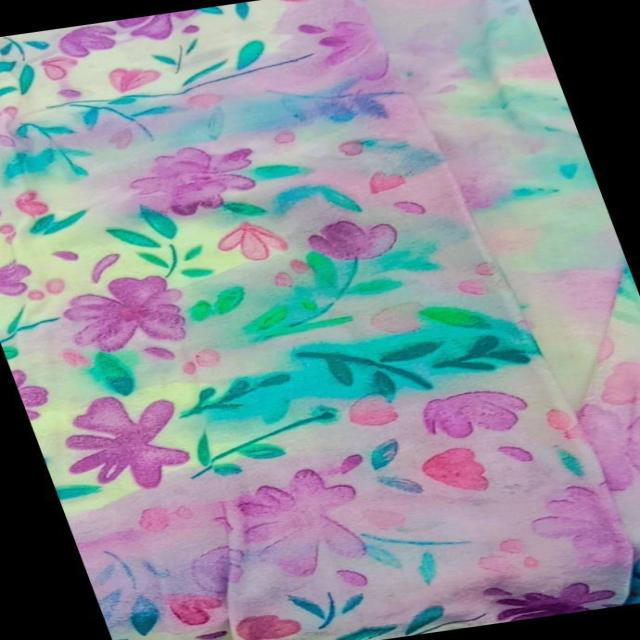baekra: (29, 331, 640, 640), (211, 0, 639, 380), (0, 43, 495, 218), (0, 247, 352, 403)
